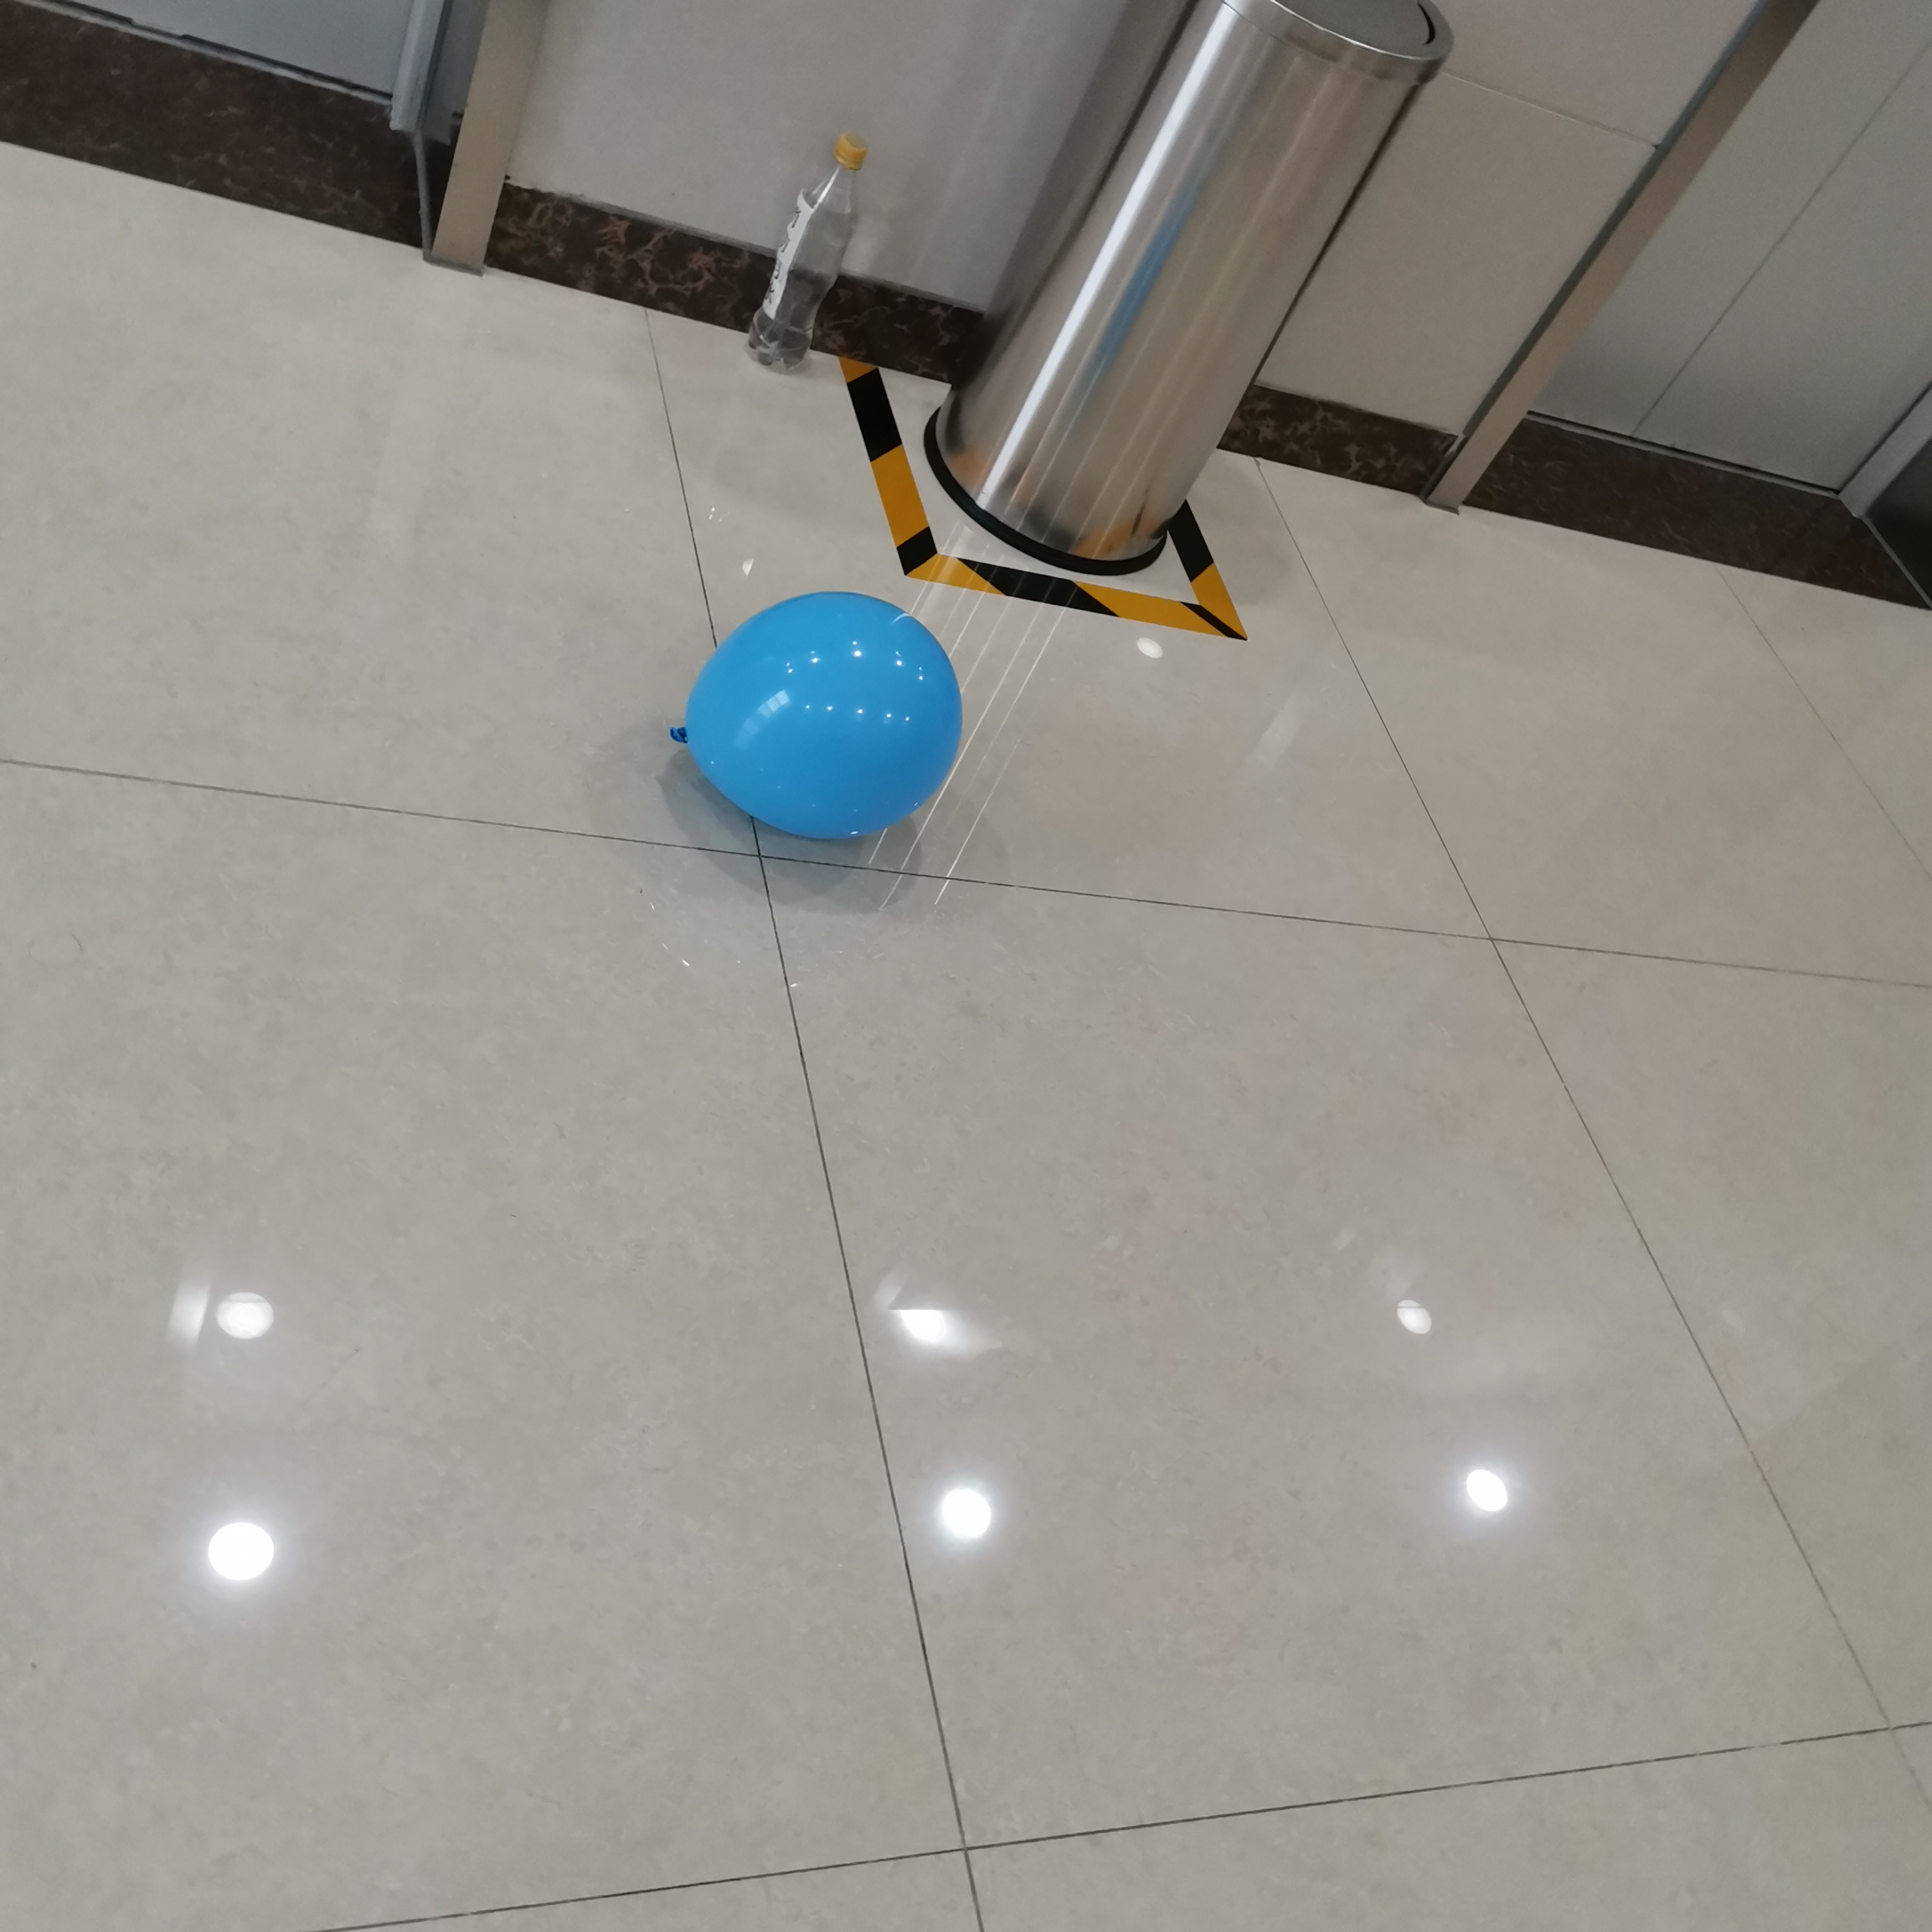balloon: (672, 591, 964, 844)
